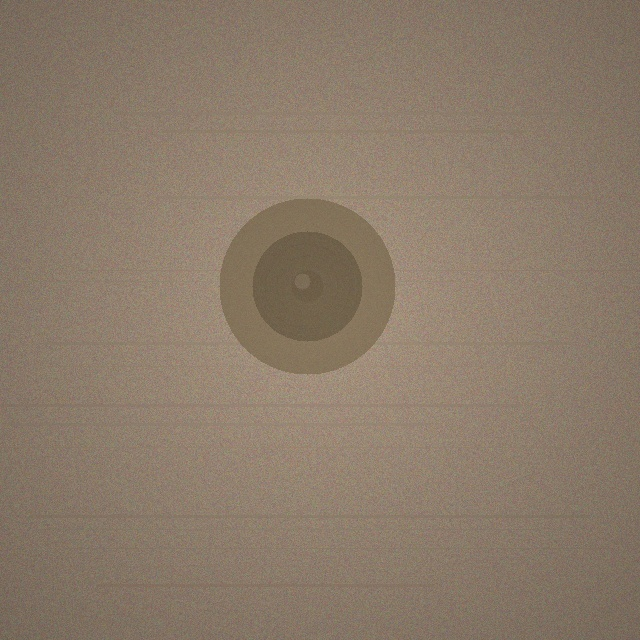good: (219, 198, 395, 374)
